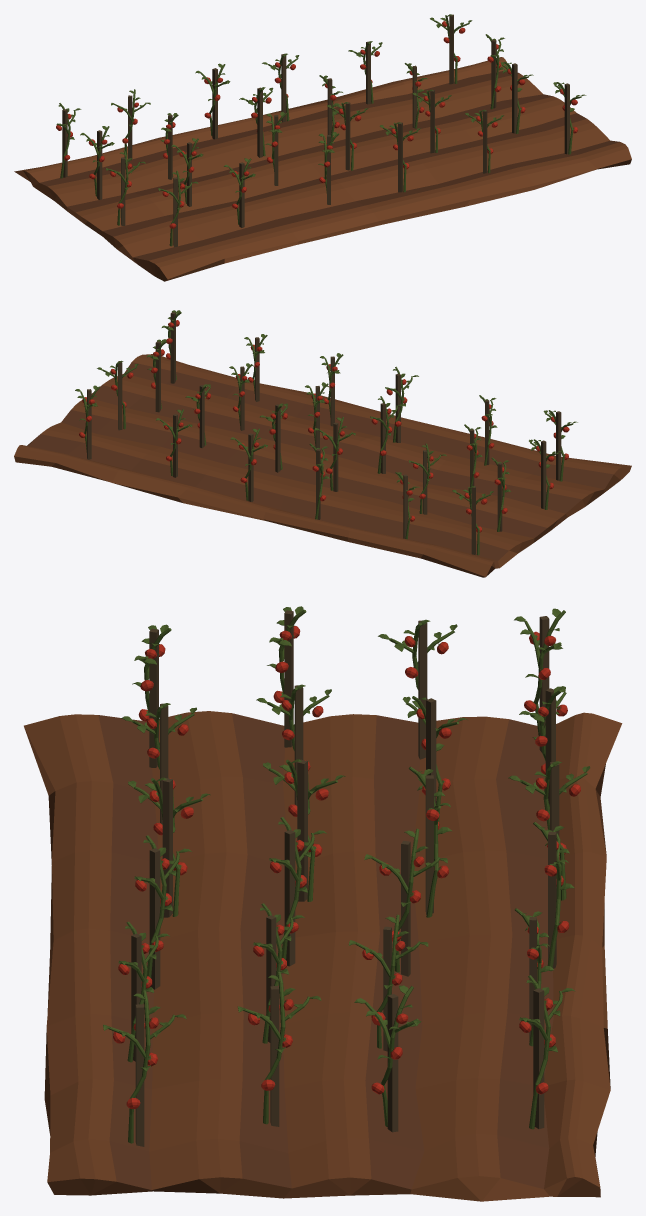
Rendered from TomatoHarvest_1.fbx.
The picture shows the model from 3 angles, top to bottom: view 1: azimuth 30°, elevation 25°; view 2: azimuth 150°, elevation 25°; view 3: azimuth 270°, elevation 25°; orthographic projection. The views are drawn at different scales.
Parts seen in each view (by area): view 1: TomatoHarvest_1; view 2: TomatoHarvest_1; view 3: TomatoHarvest_1.
Part boxes in pixels (x1,y1,x2,y2): TomatoHarvest_1: [14, 14, 631, 281]; TomatoHarvest_1: [14, 310, 631, 577]; TomatoHarvest_1: [24, 606, 622, 1201].
Size of the model in its own units: 787 by 124 by 425.
